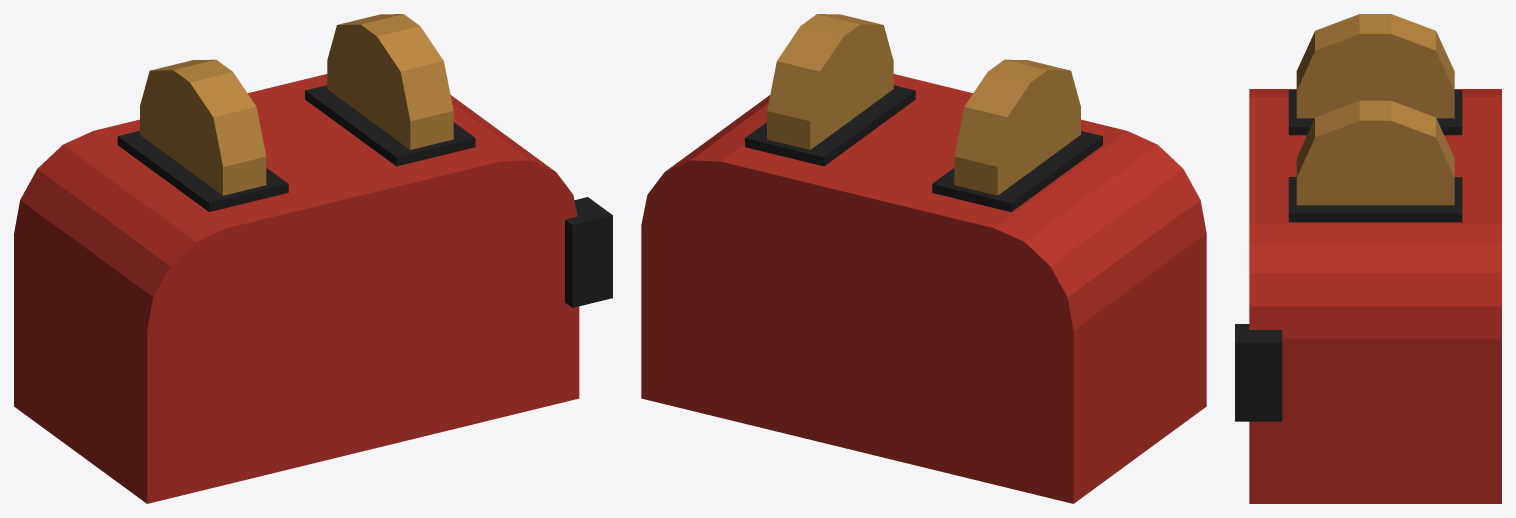
File: toaster-0d6c5c.glb
3 views of the same model, side by side, from view 1: azimuth 30°, elevation 25°; view 2: azimuth 150°, elevation 25°; view 3: azimuth 270°, elevation 25° (orthographic). The views are drawn at different scales.
Size of the model in its own units: 0.318 by 0.235 by 0.169.
